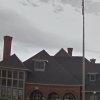Chimney: (3, 29, 16, 65)
